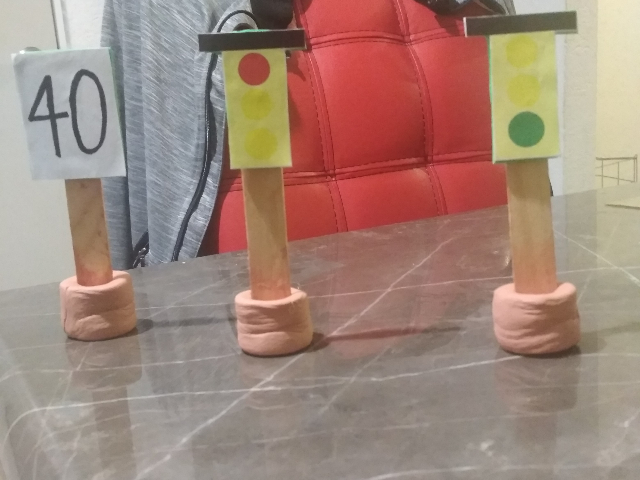Green: (464, 10, 579, 162)
Limit 40: (11, 44, 132, 181)
Red: (196, 28, 312, 170)
